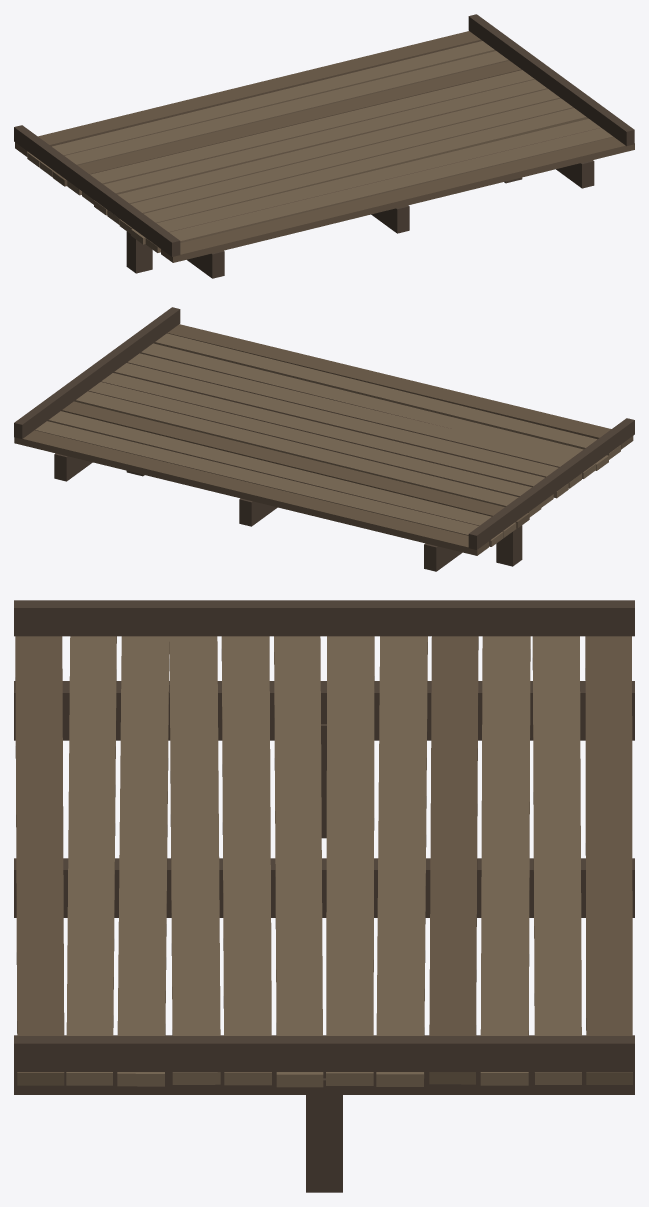
The model's file is deck.glb.
3 views of the same model, one above another, from view 1: azimuth 30°, elevation 25°; view 2: azimuth 150°, elevation 25°; view 3: azimuth 270°, elevation 25° (orthographic). The views are drawn at different scales.
Visible parts, largest first — view 1: board2_11, board_8, board2_0, board_5, board_2, board_4, board_1, board_7, board_10, board_6, board2_3, board_9 (+6 smaller); view 2: board2_0, board_10, board_4, board_7, board_2, board_8, board2_11, board2_3, board_5, board_6, board_1, board_9 (+6 smaller); view 3: beam_15, beam_16, board_2, board_8, board_4, board_9, board_7, board_5, board2_11, board_1, board_6, board2_3 (+6 smaller).
Boxes of the visible parts, bbox=[...] form: board2_11: bbox=[161, 137, 634, 262]; board_8: bbox=[119, 108, 588, 233]; board2_0: bbox=[15, 31, 482, 156]; board_5: bbox=[82, 79, 547, 204]; board_2: bbox=[40, 51, 508, 176]; board_4: bbox=[67, 70, 534, 195]; board_1: bbox=[27, 41, 495, 167]; board_7: bbox=[107, 98, 573, 224]; board_10: bbox=[145, 128, 613, 252]; board_6: bbox=[94, 89, 560, 215]; board2_3: bbox=[52, 60, 521, 186]; board_9: bbox=[131, 119, 600, 244]; board2_0: bbox=[14, 430, 488, 555]; board_10: bbox=[153, 333, 620, 459]; board_4: bbox=[74, 391, 541, 517]; board_7: bbox=[113, 363, 581, 488]; board_2: bbox=[47, 411, 516, 537]; board_8: bbox=[127, 353, 595, 478]; board2_11: bbox=[167, 324, 633, 449]; board2_3: bbox=[61, 401, 529, 528]; board_5: bbox=[88, 382, 553, 507]; board_6: bbox=[101, 373, 568, 498]; board_1: bbox=[35, 421, 503, 546]; board_9: bbox=[140, 343, 608, 470]; beam_15: bbox=[14, 600, 634, 636]; beam_16: bbox=[14, 1036, 634, 1071]; board_2: bbox=[480, 636, 530, 1085]; board_8: bbox=[169, 636, 220, 1084]; board_4: bbox=[376, 636, 427, 1086]; board_9: bbox=[117, 636, 169, 1086]; board_7: bbox=[221, 636, 271, 1085]; board_5: bbox=[326, 636, 374, 1085]; board2_11: bbox=[15, 636, 64, 1085]; board_1: bbox=[532, 636, 581, 1084]; board_6: bbox=[274, 636, 323, 1087]; board2_3: bbox=[429, 636, 478, 1084].
Size of the model in its own units: 3.41 by 0.66 by 2.
